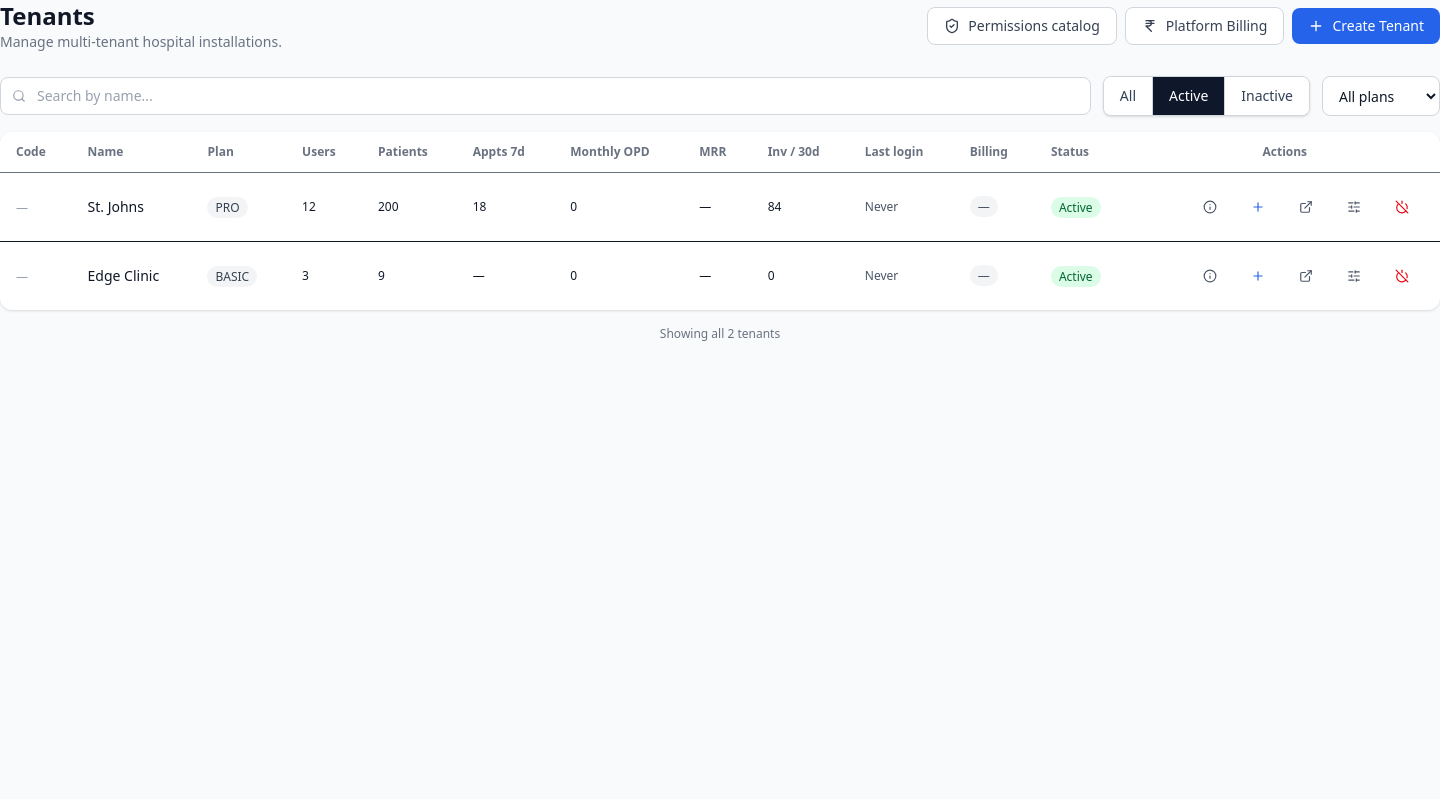
it: TenantsAdminPage › disables the Save button + shows an error when the idle-timeout value is out of range (Pearl §8.2 row 212)
Click the button with test id "tenant-detail-stjohns" at coordinates (1210, 207), box [1188,185,1232,229]
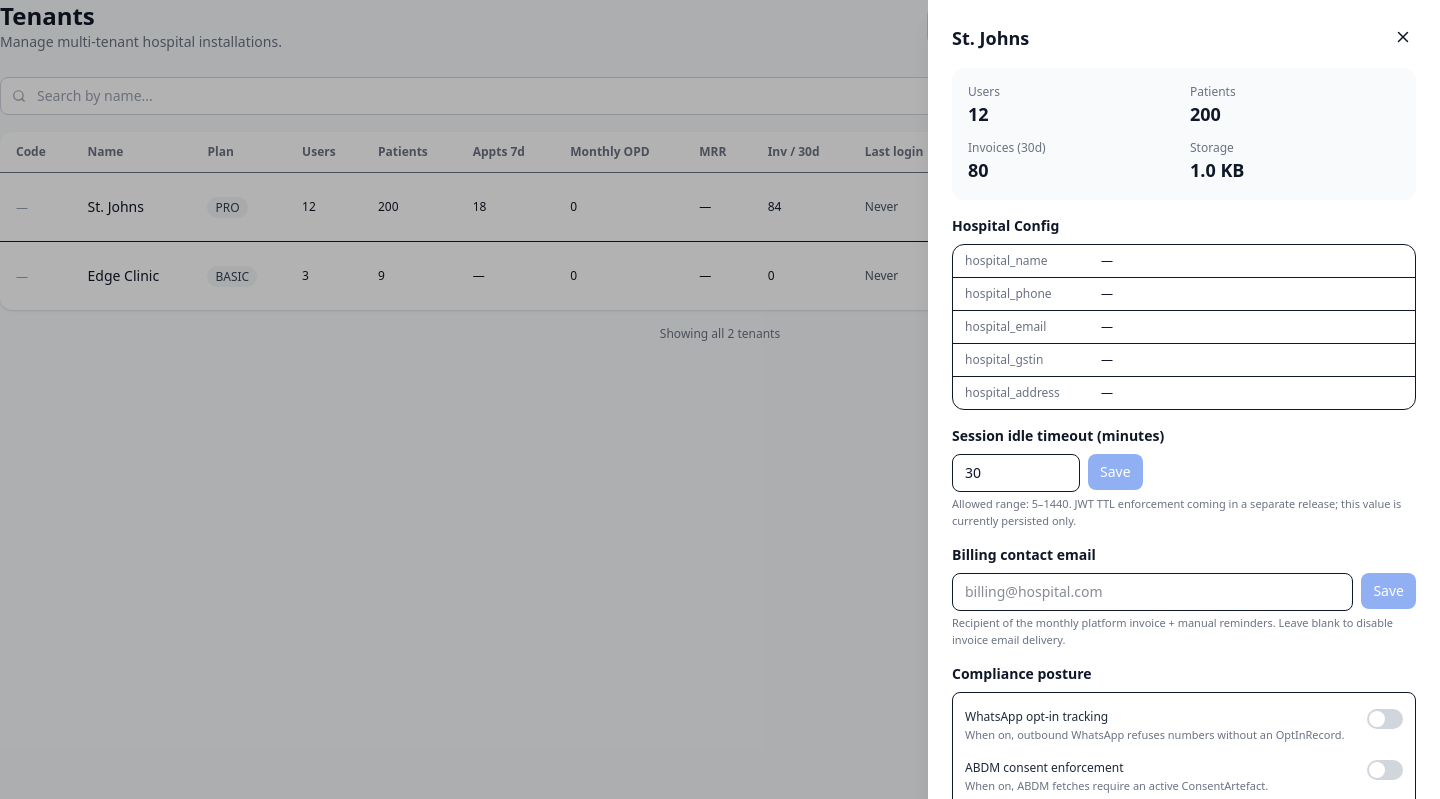
expect the number field with test id "tenants-detail-session-idle-input" holds "30": met
# Below floor (5) → error + Save stays disabled.
Replace the text in the number field with test id "tenants-detail-session-idle-input" with "4" at coordinates (1016, 473), box [952,454,1080,492]
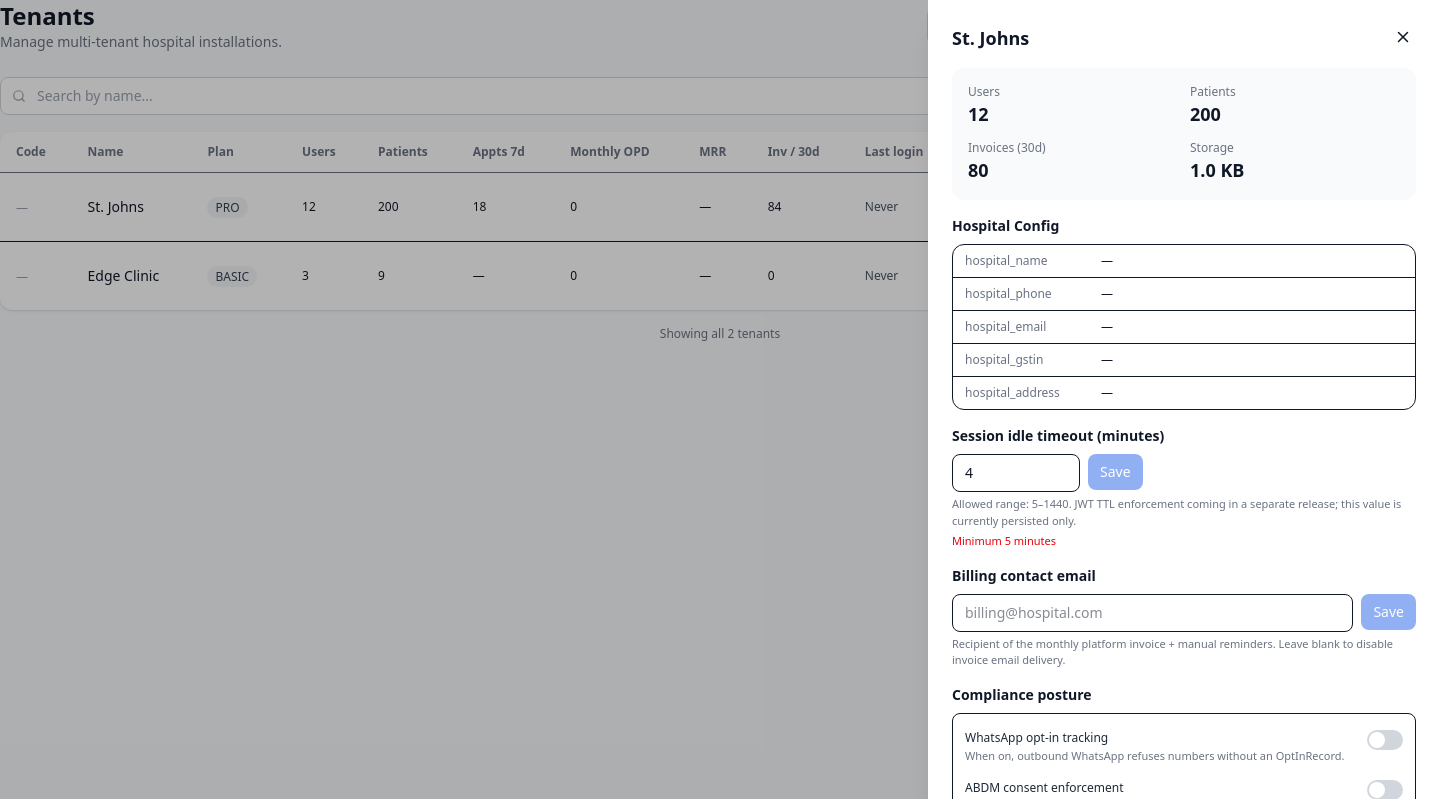
expect the button with test id "tenants-detail-session-idle-save" is disabled: met, box [1088,454,1143,490]
expect the text with test id "tenants-detail-session-idle-error" reads "Minimum 5 minutes": met, box [952,533,1056,548]
# Above ceiling (1440) → error.
Replace the text in the number field with test id "tenants-detail-session-idle-input" with "2000" at coordinates (1016, 473), box [952,454,1080,492]
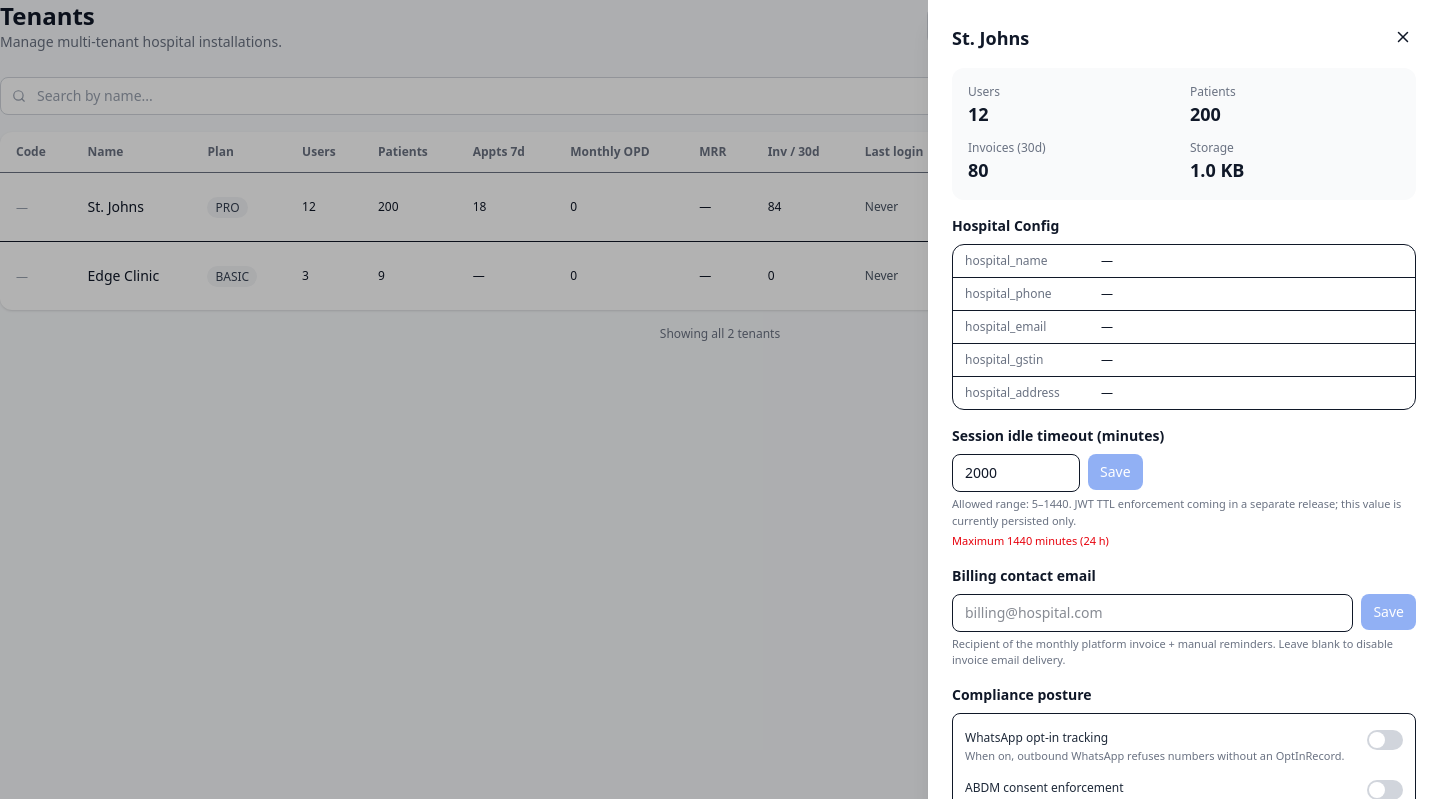
expect the button with test id "tenants-detail-session-idle-save" is disabled: met, box [1088,454,1143,490]
expect the text with test id "tenants-detail-session-idle-error" reads "Maximum 1440 minutes (24 h)": met, box [952,533,1109,548]
